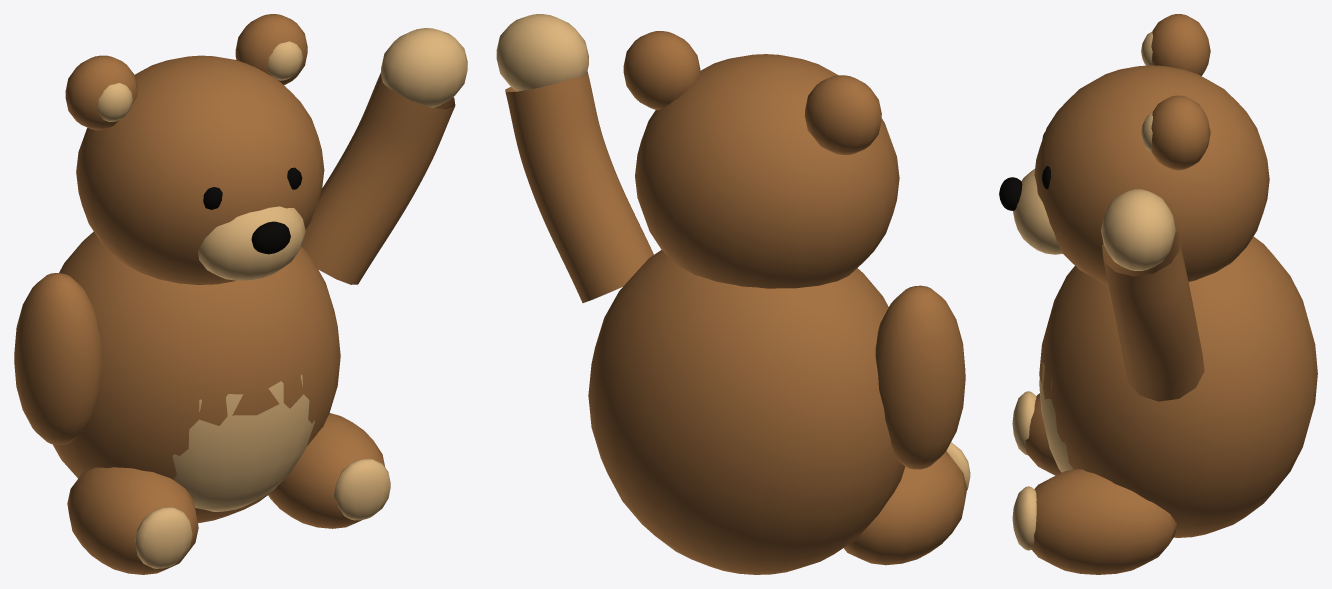
The model's file is bear.glb.
The picture shows the model from 3 angles, left to right: view 1: azimuth 30°, elevation 25°; view 2: azimuth 150°, elevation 25°; view 3: azimuth 270°, elevation 25°; orthographic projection. The views are drawn at different scales.
Visible parts, largest first — view 1: Bear | body, Bear | head, Bear | arm up, Bear | arm down, Bear | belly, Bear | leg, Bear | leg.001, Bear | paw up, Bear | muzzle, Bear | ear, Bear | sole, Bear | sole.001 (+4 smaller); view 2: Bear | body, Bear | head, Bear | arm up, Bear | arm down, Bear | leg, Bear | paw up, Bear | ear, Bear | ear.001; view 3: Bear | body, Bear | head, Bear | leg.001, Bear | arm up, Bear | paw up, Bear | ear.001, Bear | ear, Bear | muzzle, Bear | leg, Bear | sole.001, Bear | belly, Bear | sole (+1 smaller).
Boxes of the visible parts, left/top/right/bottom form: Bear | body: left=52, top=231, right=340, bottom=523; Bear | head: left=76, top=55, right=324, bottom=284; Bear | arm up: left=301, top=72, right=455, bottom=284; Bear | arm down: left=14, top=273, right=102, bottom=445; Bear | belly: left=172, top=374, right=314, bottom=511; Bear | leg: left=67, top=467, right=198, bottom=574; Bear | leg.001: left=268, top=413, right=385, bottom=528; Bear | paw up: left=381, top=28, right=467, bottom=107; Bear | muzzle: left=198, top=206, right=305, bottom=280; Bear | ear: left=65, top=55, right=137, bottom=130; Bear | sole: left=135, top=507, right=192, bottom=568; Bear | sole.001: left=334, top=458, right=390, bottom=520; Bear | body: left=588, top=250, right=905, bottom=574; Bear | head: left=635, top=54, right=899, bottom=288; Bear | arm up: left=505, top=71, right=653, bottom=302; Bear | arm down: left=875, top=285, right=965, bottom=469; Bear | leg: left=844, top=451, right=966, bottom=565; Bear | paw up: left=496, top=14, right=588, bottom=91; Bear | ear: left=805, top=75, right=881, bottom=154; Bear | ear.001: left=623, top=31, right=700, bottom=110; Bear | body: left=1039, top=236, right=1317, bottom=537; Bear | head: left=1034, top=65, right=1269, bottom=284; Bear | leg.001: left=1031, top=469, right=1176, bottom=574; Bear | arm up: left=1102, top=231, right=1204, bottom=401; Bear | paw up: left=1101, top=189, right=1175, bottom=270; Bear | ear.001: left=1151, top=95, right=1210, bottom=170; Bear | ear: left=1151, top=14, right=1210, bottom=75; Bear | muzzle: left=1013, top=169, right=1062, bottom=254; Bear | leg: left=1025, top=393, right=1061, bottom=475; Bear | sole.001: left=1012, top=486, right=1036, bottom=550; Bear | belly: left=1039, top=362, right=1073, bottom=472; Bear | sole: left=1012, top=391, right=1036, bottom=455.
Size of the model in its own units: 1.85 by 1.92 by 1.19.
